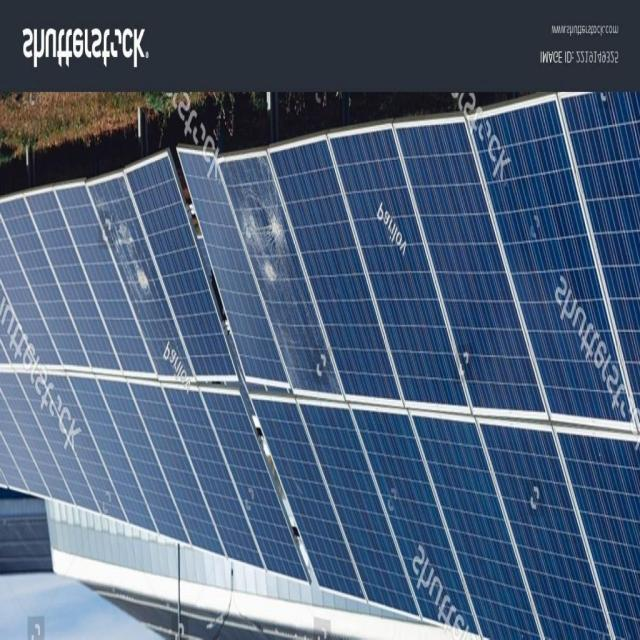cracked: (223, 147, 338, 400), (76, 168, 192, 390)
